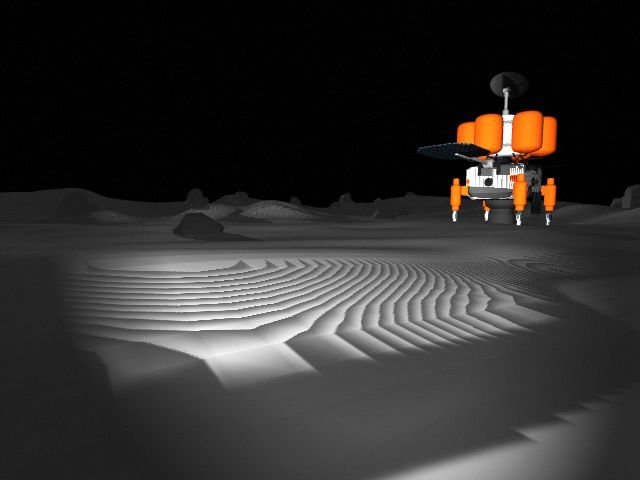homebase: (414, 70, 588, 227)
